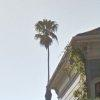Palm tree: (28, 12, 59, 73)
